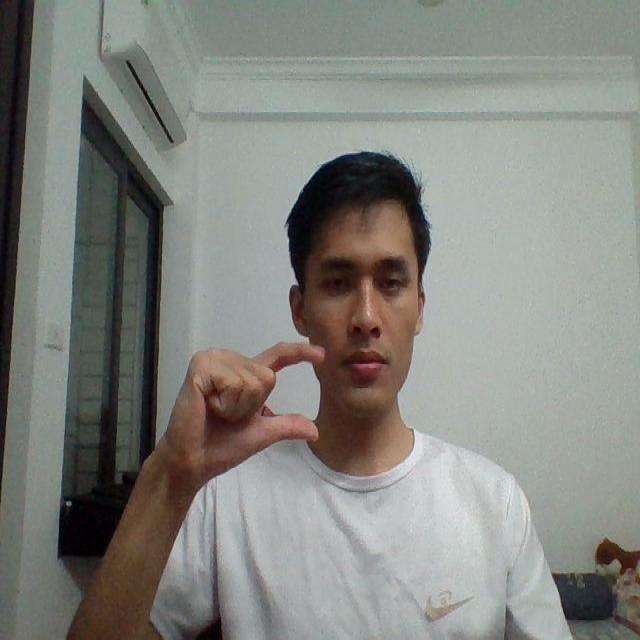no: (163, 334, 332, 481)
